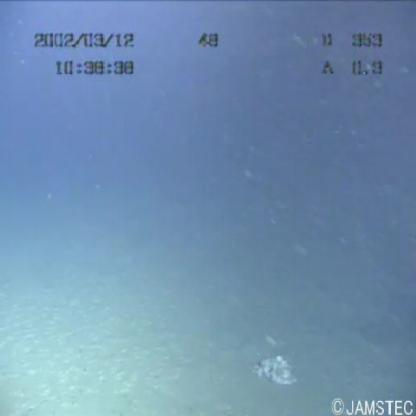Rác: (246, 347, 316, 395)
